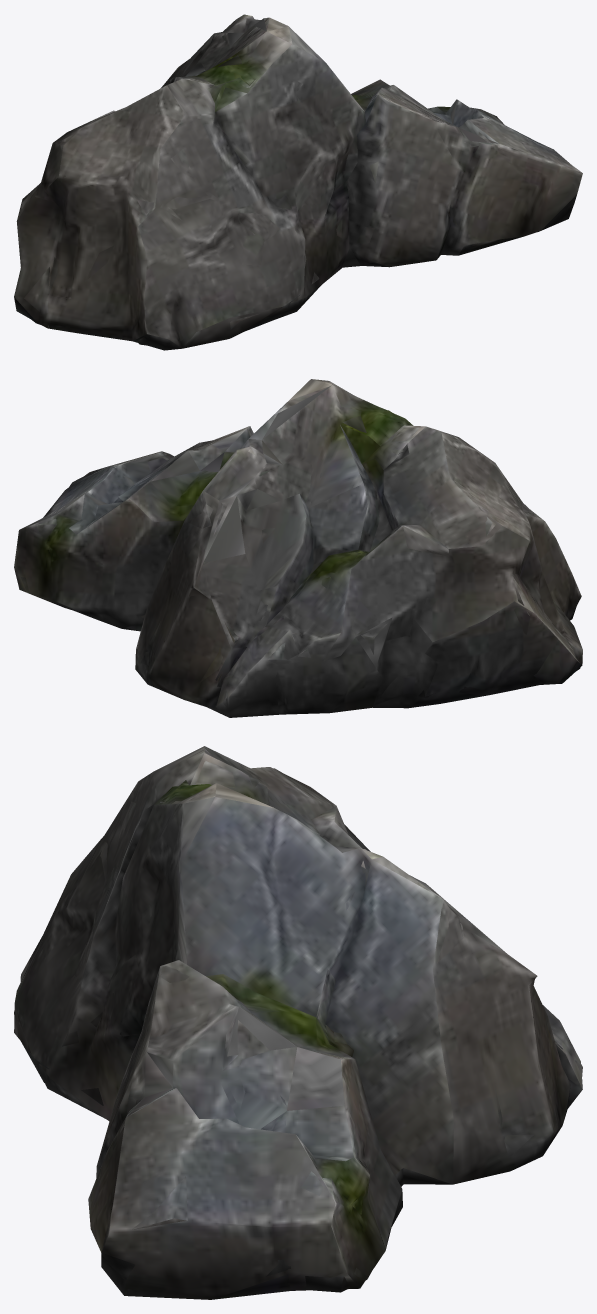
File: rock-3.glb
3 renders of one model, top to bottom at view 1: azimuth 30°, elevation 25°; view 2: azimuth 150°, elevation 25°; view 3: azimuth 270°, elevation 25°, orthographic. The views are drawn at different scales.
Parts seen in each view (by area): view 1: terrain-rock-3; view 2: terrain-rock-3; view 3: terrain-rock-3.
Boxes of the visible parts, bbox=[...] form: terrain-rock-3: bbox=[14, 14, 582, 350]; terrain-rock-3: bbox=[14, 379, 582, 717]; terrain-rock-3: bbox=[14, 746, 582, 1299].
Bounding box in the file's own units: 0.2383 × 0.0995 × 0.1569.
Materials: 1 (1 with a texture image).
